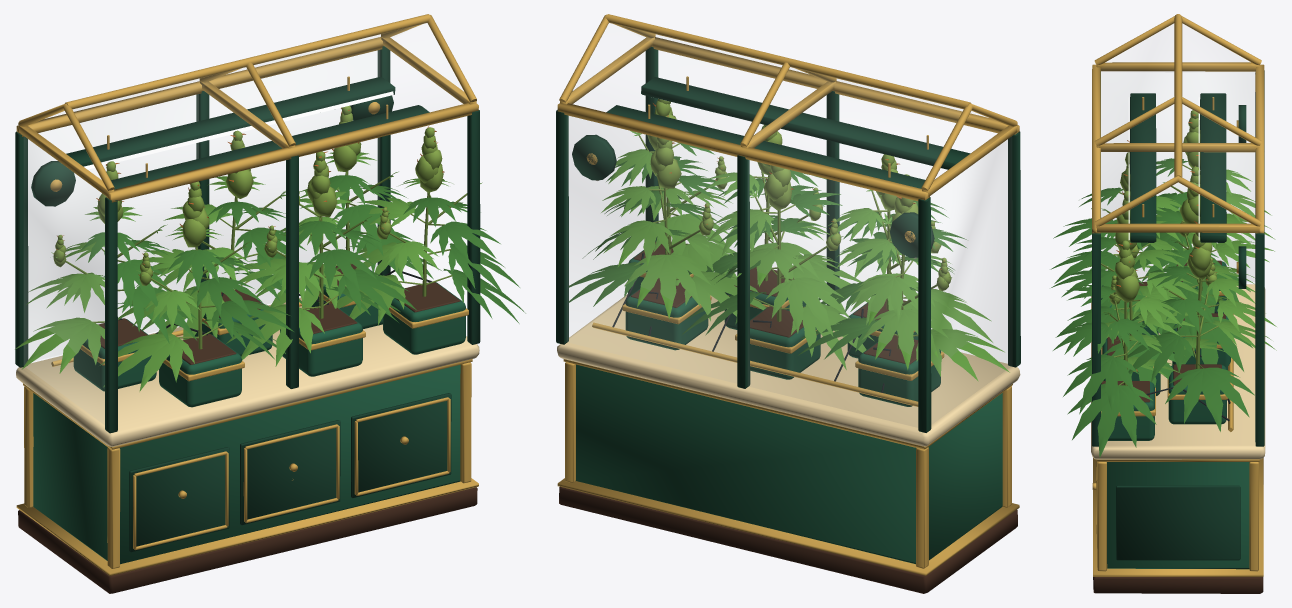
The model's file is grow_bench_tier5.glb.
3 views of the same model, side by side, from view 1: azimuth 30°, elevation 25°; view 2: azimuth 150°, elevation 25°; view 3: azimuth 270°, elevation 25° (orthographic). The views are drawn at different scales.
Visible parts, largest first — view 1: Body, GlassEnd, Top, GlassBack, Plinth, Panel1, Panel2, Panel0, LedBar1, PlinthBrass, Eave-0.42, Eave0.42 (+60 smaller); view 2: GlassBack, Body, Top, GlassEnd, Plinth, LedBar0, Eave0.42, PlinthBrass, Eave-0.42, Ridge, LedBar1, FramePost-0.980.42 (+48 smaller); view 3: EndPanel, Top, Body, LedBar1, LedBar0, Plinth, P2Leaf00, P5Leaf00, PlinthBrass, FramePost0.980.42, P5Leaf13, Rafter0.98 (+51 smaller).
Part boxes in pixels (<box>): Body: <box>33,364,460,564</box>; GlassEnd: <box>24,137,105,424</box>; Top: <box>16,297,479,446</box>; GlassBack: <box>39,125,379,332</box>; Plinth: <box>18,487,477,593</box>; Panel1: <box>240,420,340,525</box>; Panel2: <box>351,393,451,498</box>; Panel0: <box>129,447,229,552</box>; LedBar1: <box>66,77,395,166</box>; PlinthBrass: <box>16,478,478,575</box>; Eave-0.42: <box>106,103,478,202</box>; Eave0.42: <box>16,37,383,136</box>; GlassBack: <box>567,116,917,426</box>; Body: <box>576,364,1002,564</box>; Top: <box>557,294,1020,446</box>; GlassEnd: <box>930,137,1011,423</box>; Plinth: <box>559,486,1017,593</box>; LedBar0: <box>641,77,970,169</box>; Eave0.42: <box>557,103,929,201</box>; PlinthBrass: <box>557,478,1019,575</box>; Eave-0.42: <box>651,37,1019,134</box>; Ridge: <box>605,14,971,109</box>; LedBar1: <box>606,105,925,188</box>; FramePost-0.980.42: <box>918,197,931,432</box>; EndPanel: <box>1116,485,1240,560</box>; Top: <box>1091,284,1265,459</box>; Body: <box>1107,462,1249,569</box>; LedBar1: <box>1200,93,1226,242</box>; LedBar0: <box>1130,93,1156,242</box>; Plinth: <box>1093,577,1263,593</box>; P2Leaf00: <box>1165,367,1254,431</box>; P5Leaf00: <box>1067,383,1156,457</box>; PlinthBrass: <box>1093,458,1263,576</box>; FramePost0.980.42: <box>1255,232,1264,446</box>; P5Leaf13: <box>1063,354,1138,414</box>; Rafter0.98: <box>1096,223,1259,232</box>.
Size of the model in its own units: 2.5 by 2.37 by 1.17.
